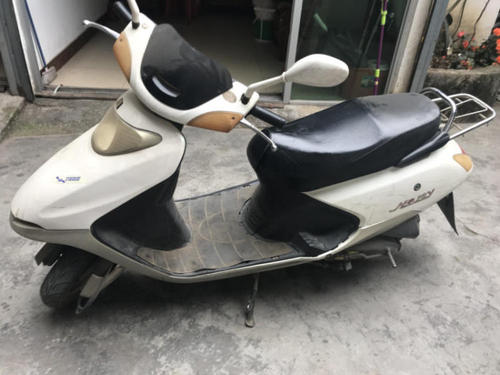motor: (24, 28, 478, 326)
